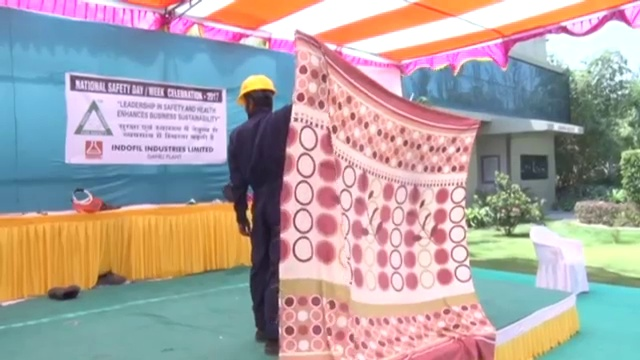helmet: (238, 73, 277, 106)
helmet_on: (237, 73, 276, 120)
person: (227, 74, 291, 354)
